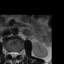CCS_normal: (12, 49, 15, 60)
LFS_normal: (18, 49, 20, 57)
LLS_normal: (15, 49, 18, 59)
RFS_normal: (7, 48, 10, 57)
RLS_normal: (10, 49, 12, 58)
